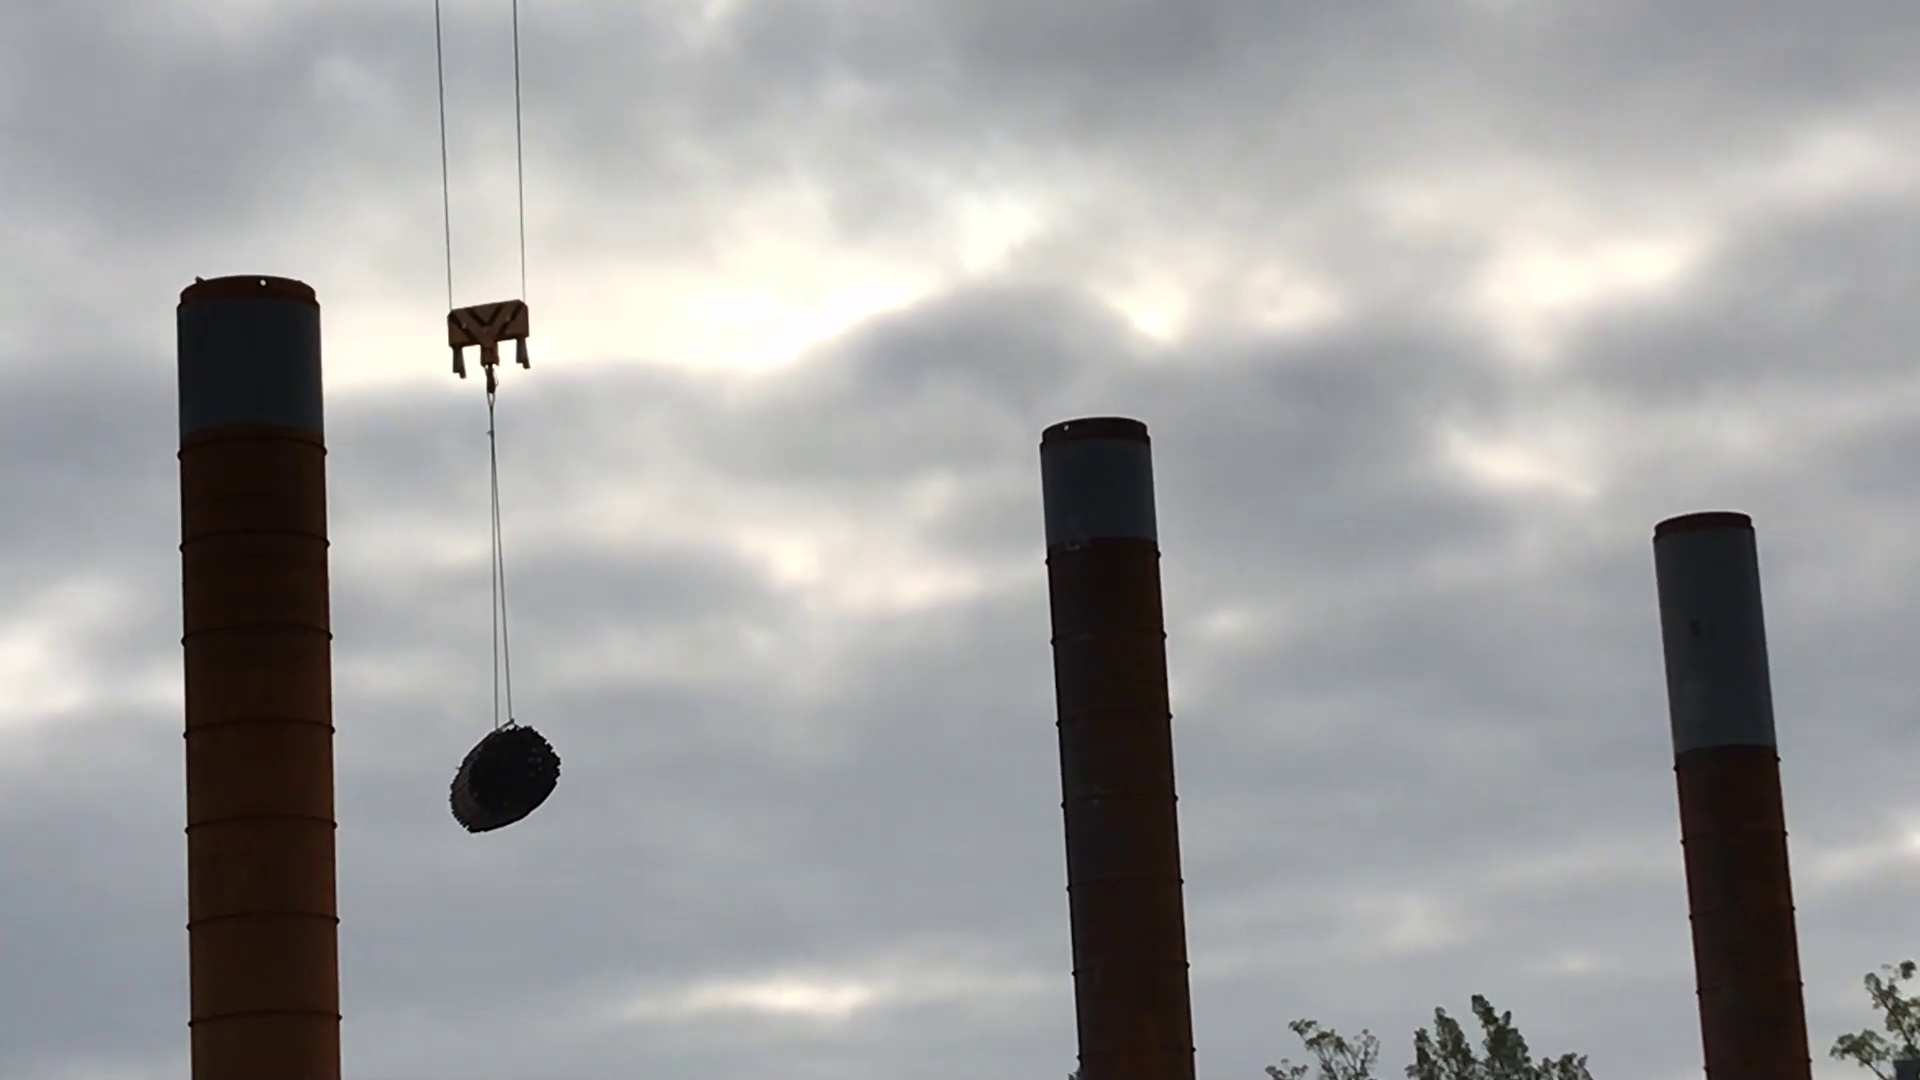hook: (438, 298, 545, 392)
